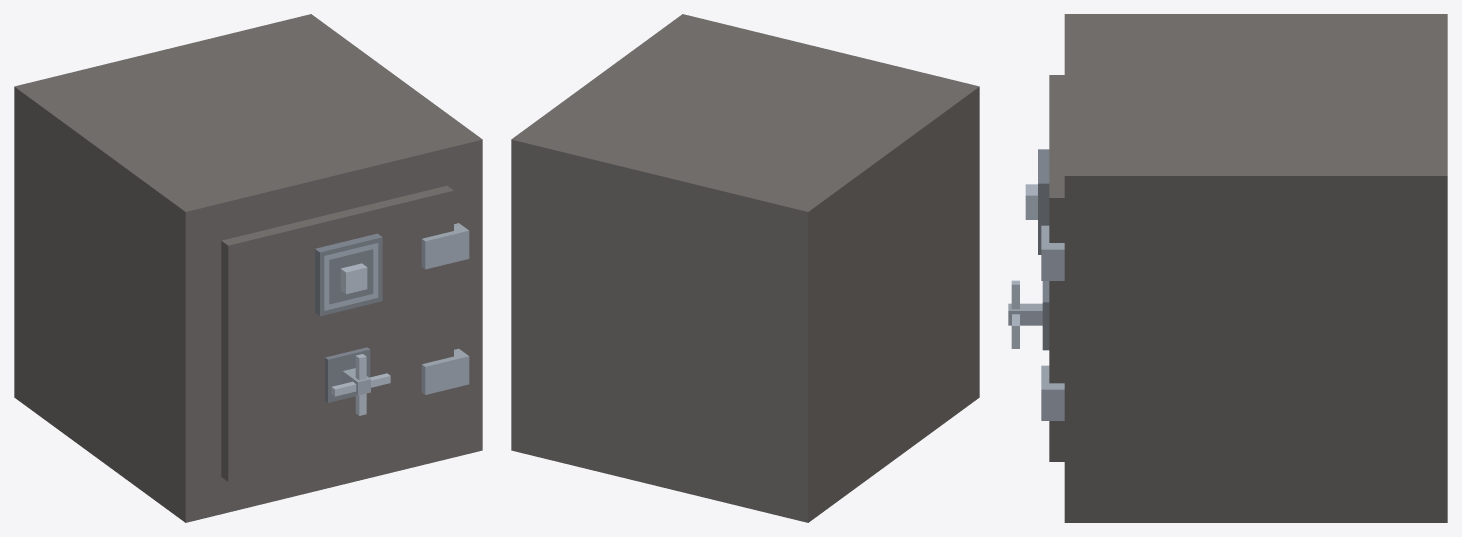
The model's file is Safe.glb.
3 views of the same model, side by side, from view 1: azimuth 30°, elevation 25°; view 2: azimuth 150°, elevation 25°; view 3: azimuth 270°, elevation 25° (orthographic). The views are drawn at different scales.
Parts seen in each view (by area): view 1: SI_Prop_Safe_01, SI_Prop_Safe_Door_01; view 2: SI_Prop_Safe_01; view 3: SI_Prop_Safe_01, SI_Prop_Safe_Door_01.
Part boxes in pixels (x1=…): SI_Prop_Safe_01: x1=14, y1=14, x2=482, y2=522; SI_Prop_Safe_Door_01: x1=221, y1=185, x2=469, y2=481; SI_Prop_Safe_01: x1=511, y1=14, x2=979, y2=522; SI_Prop_Safe_01: x1=1064, y1=14, x2=1447, y2=522; SI_Prop_Safe_Door_01: x1=1008, y1=75, x2=1064, y2=461.
Bounding box in the file's own units: 0.01 × 0.01 × 0.0115.
Materials: 1 (1 with a texture image).
